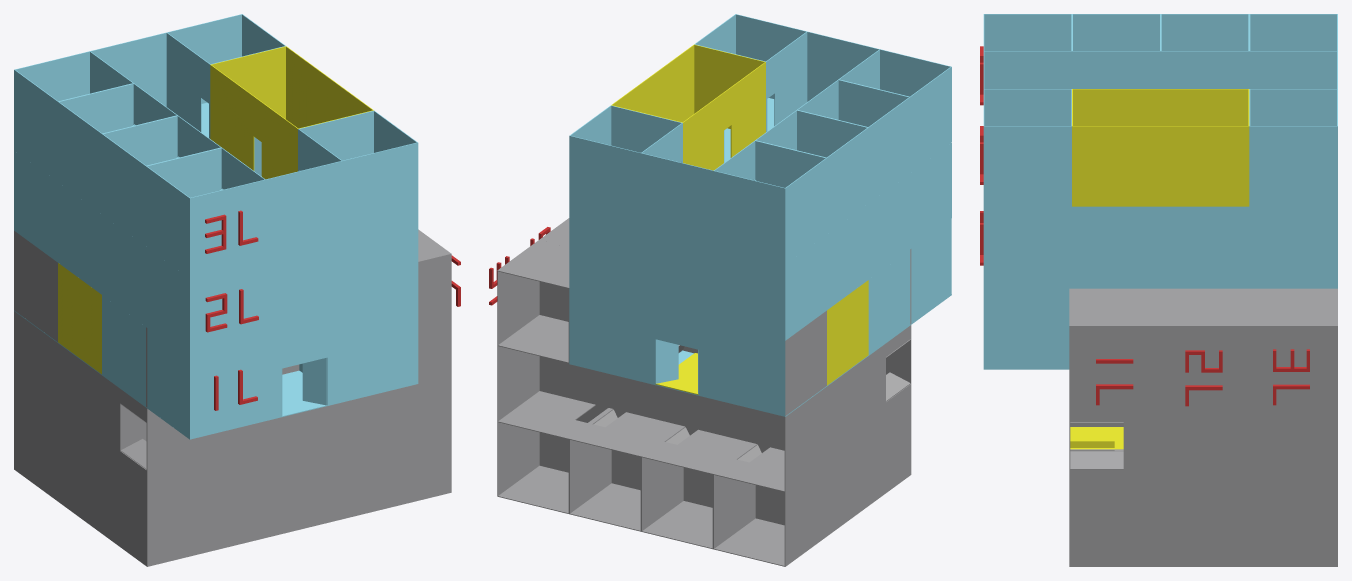
File: 第十一组.glb
3 renders of one model, left to right at view 1: azimuth 30°, elevation 25°; view 2: azimuth 150°, elevation 25°; view 3: azimuth 270°, elevation 25°, orthographic. The views are drawn at different scales.
Bounding box in the file's own units: 0.0215 × 0.0251 × 0.0202.
